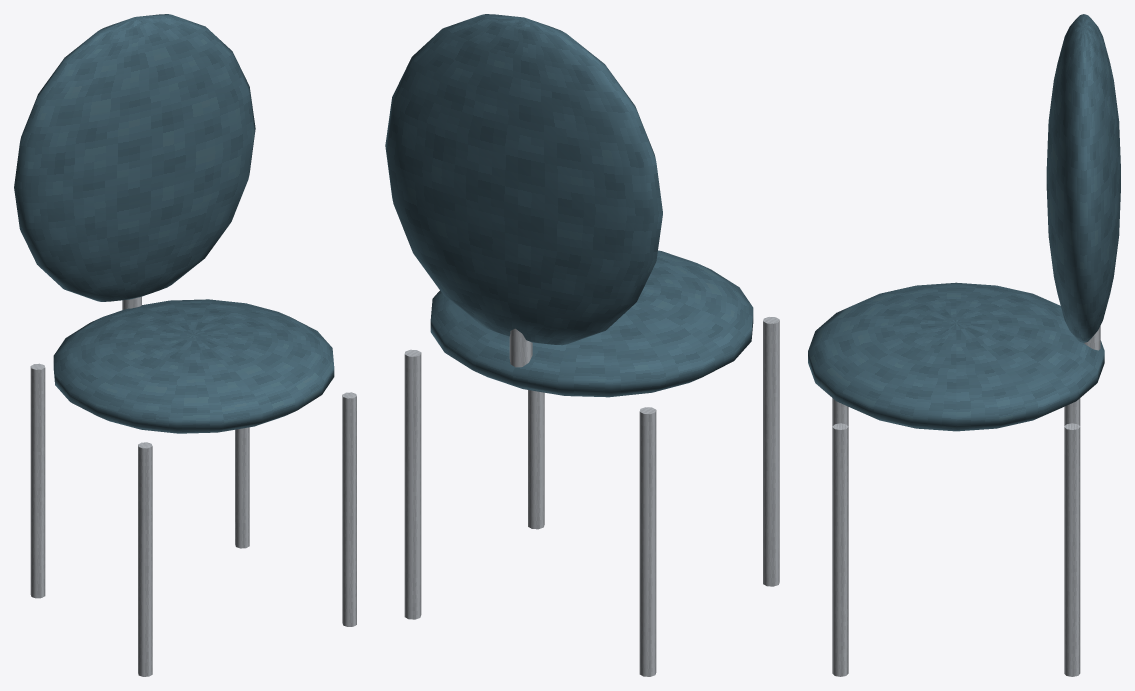
The model's file is chair_meeting01.glb.
The picture shows the model from 3 angles, left to right: view 1: azimuth 30°, elevation 25°; view 2: azimuth 150°, elevation 25°; view 3: azimuth 270°, elevation 25°; orthographic projection. The views are drawn at different scales.
Parts seen in each view (by area): view 1: back, seat, legs; view 2: back, seat, legs, spine; view 3: seat, back, legs.
Part boxes in pixels (bbox=[...]): back: bbox=[14, 14, 255, 301]; seat: bbox=[53, 299, 334, 433]; legs: bbox=[30, 363, 356, 676]; back: bbox=[385, 14, 662, 345]; seat: bbox=[430, 250, 753, 397]; legs: bbox=[404, 317, 779, 676]; spine: bbox=[509, 328, 532, 367]; seat: bbox=[808, 282, 1104, 431]; back: bbox=[1046, 14, 1120, 342]; legs: bbox=[832, 398, 1080, 676].
Size of the model in its own units: 0.5318 by 1.13 by 0.5401.
2 materials, 2 textured.
